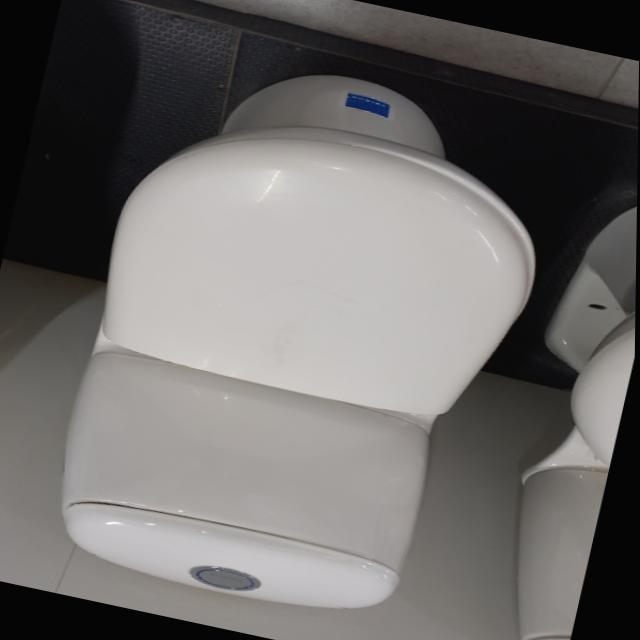toilet: (40, 36, 573, 640)
